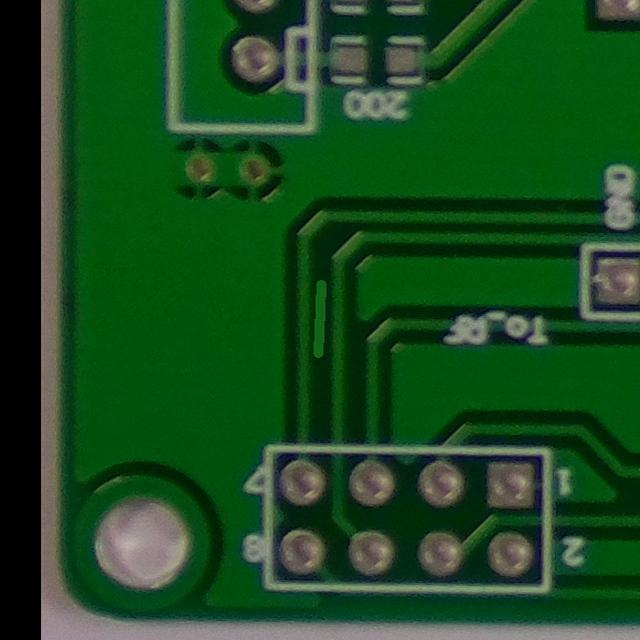spurious_copper: (294, 272, 345, 369)
